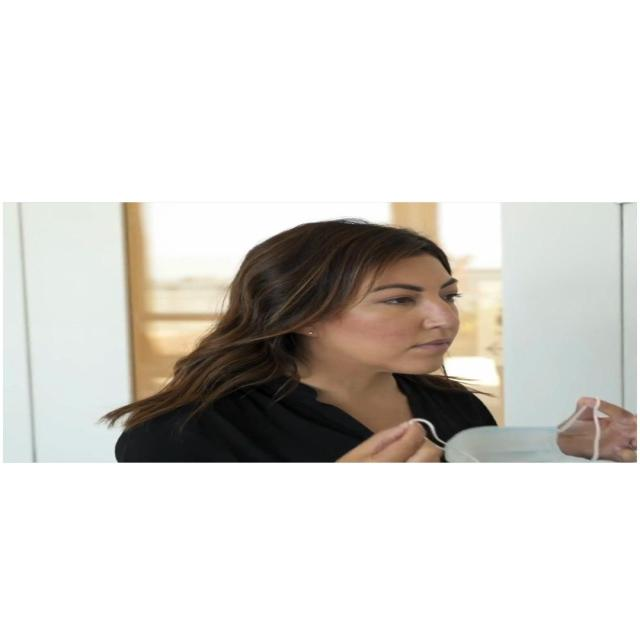NO-Mask: (316, 248, 468, 374)
